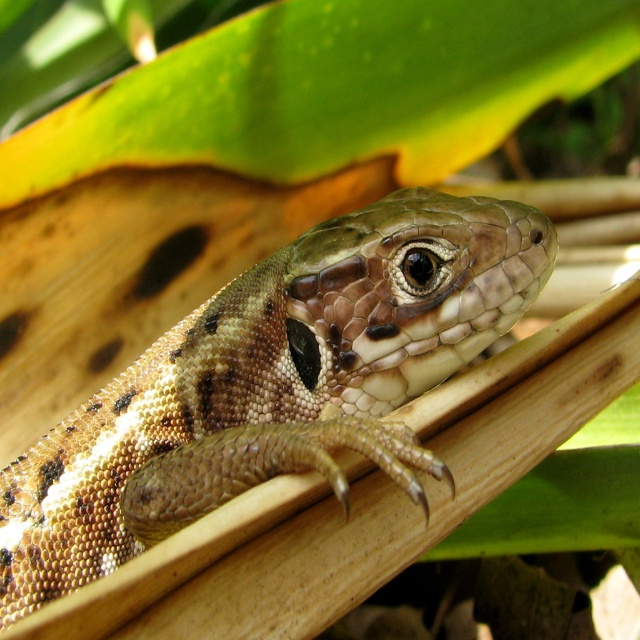Lizard: (7, 189, 548, 585)
